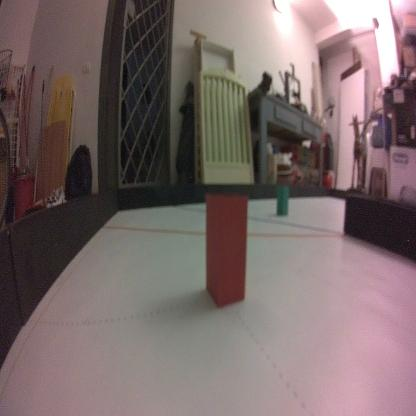green: (275, 183, 290, 219)
red: (203, 187, 250, 314)
